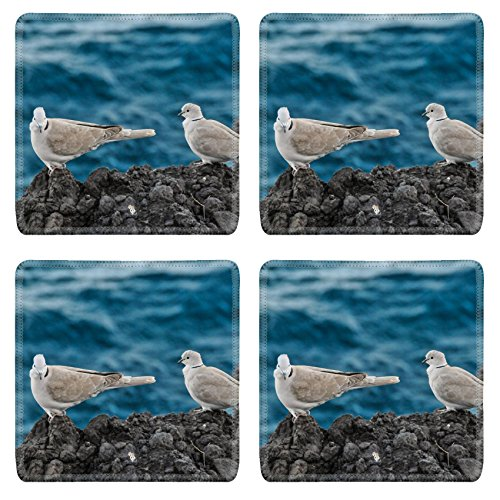volcanic_rock: (340, 422, 470, 470), (341, 176, 468, 219), (98, 175, 219, 220), (88, 427, 218, 467)
